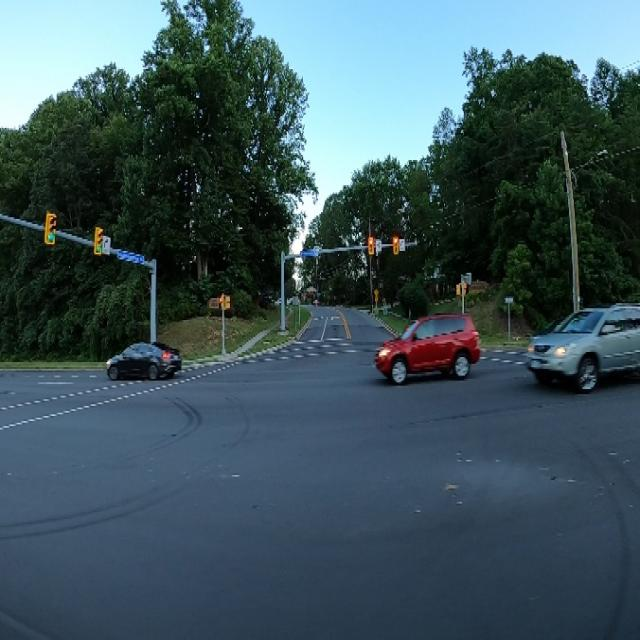car: (517, 290, 640, 389), (367, 295, 478, 396), (98, 325, 185, 392)
